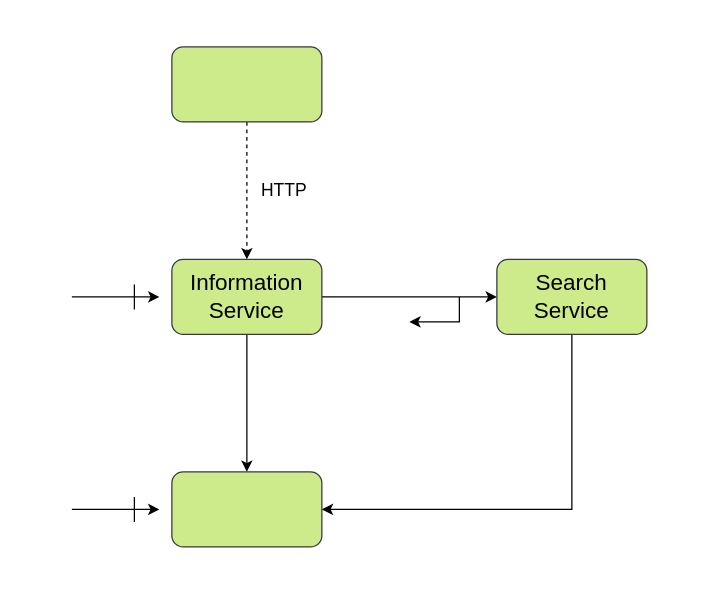
The diagram is 705 pixels wide and 593 high, and some of its shapes have lost their labels. Here are the shapes that lost their labels. From the top down, the box of each, then its label:
(171, 46, 322, 122): GUI
(171, 471, 322, 547): Data
